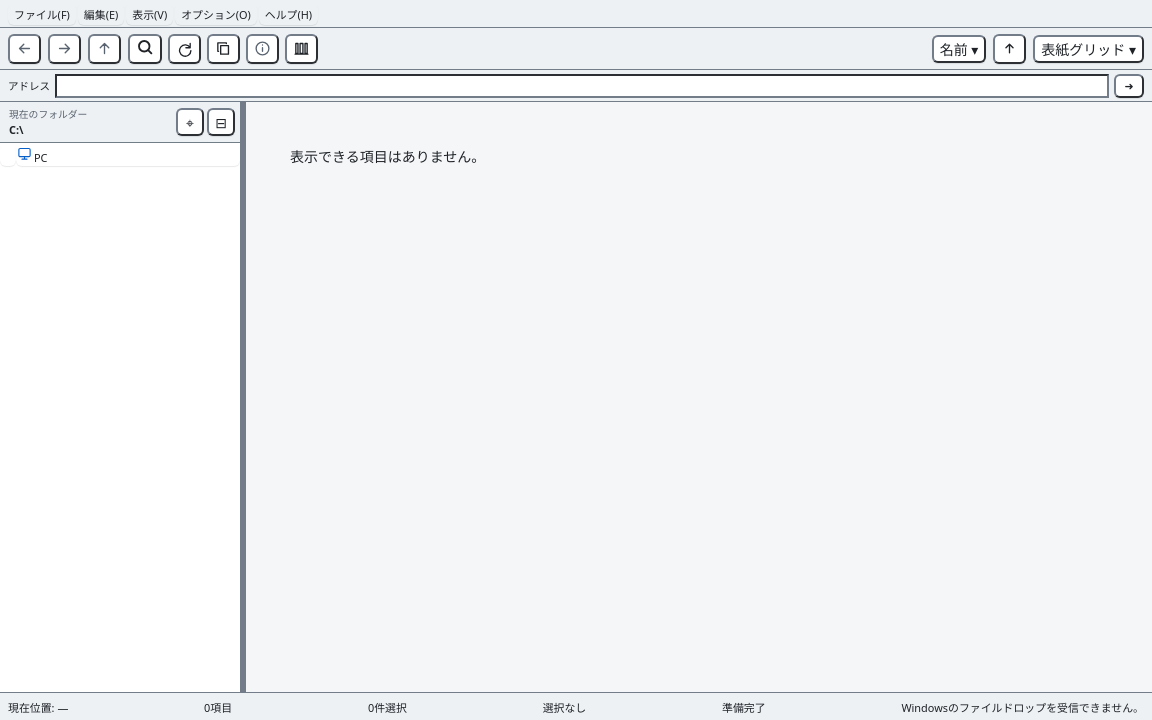
Test case: FR-B09 connected library diagnostics › FT-B09-002 exposes duplicate identity findings without hiding the path
Click the menu item "オプション(O)". click: (216, 14)
box: [175,2,257,24]
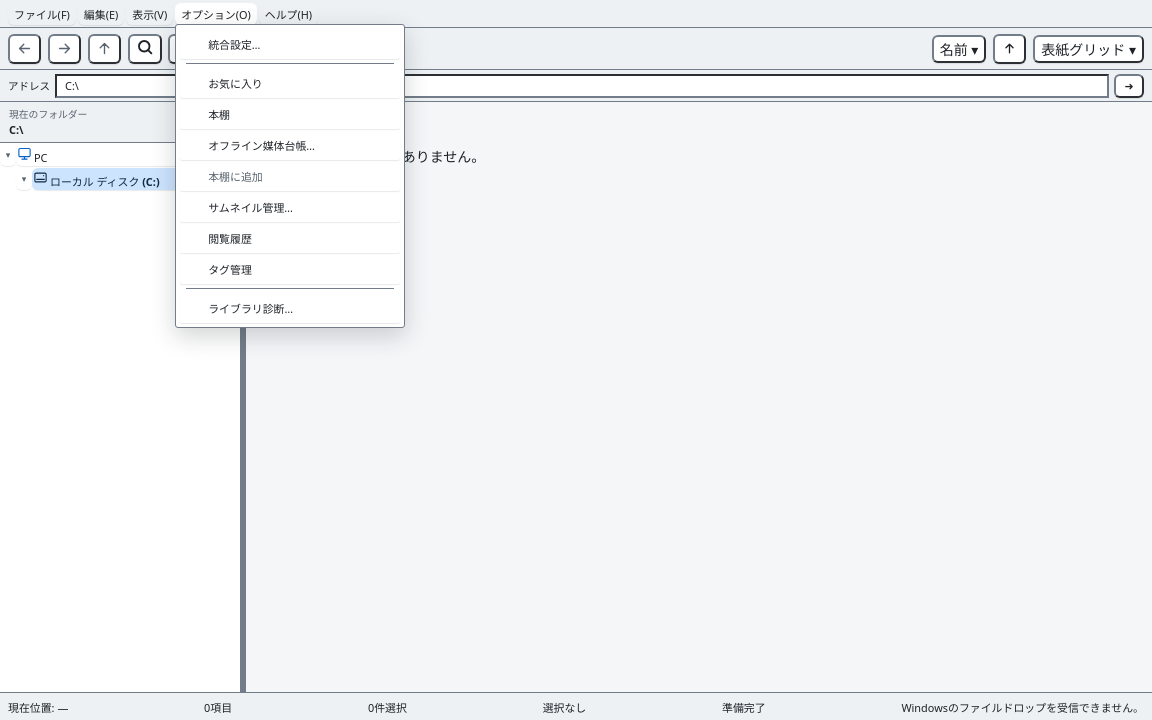
Click the menu item "ライブラリ診断…". click: (290, 308)
box: [180,293,400,323]
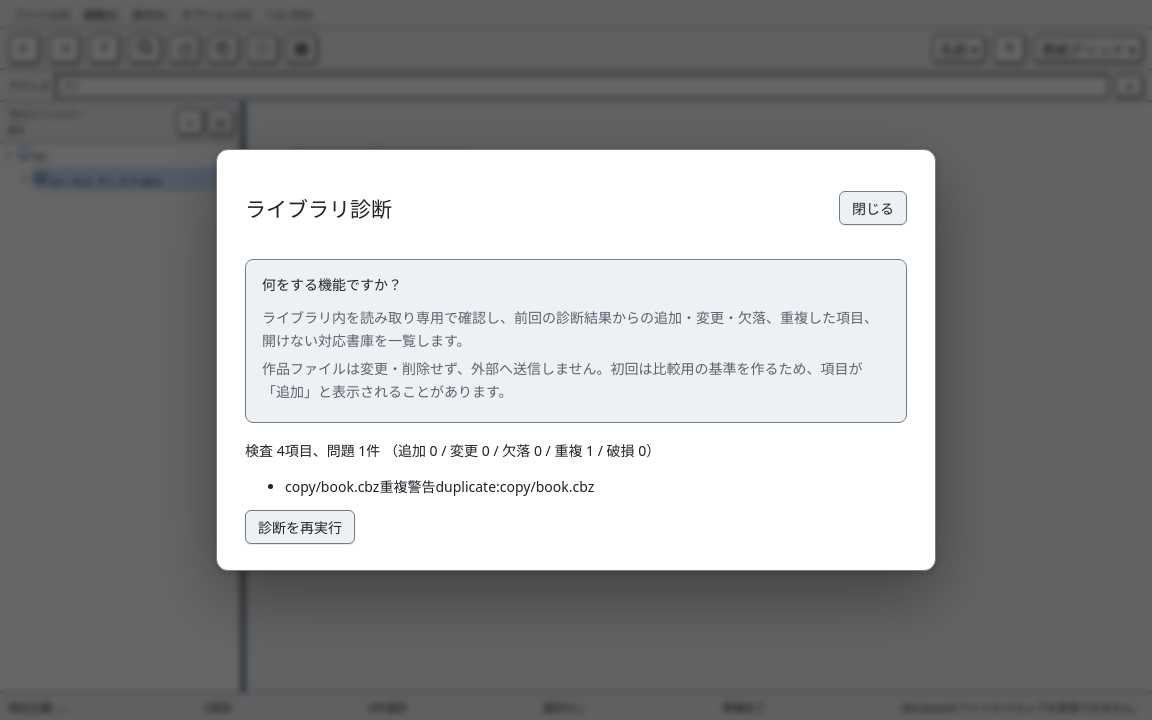
Result: the text "copy/book.cbz" is shown at [285,477,379,496]
Result: the text "重複" is shown at [379,477,407,496]
